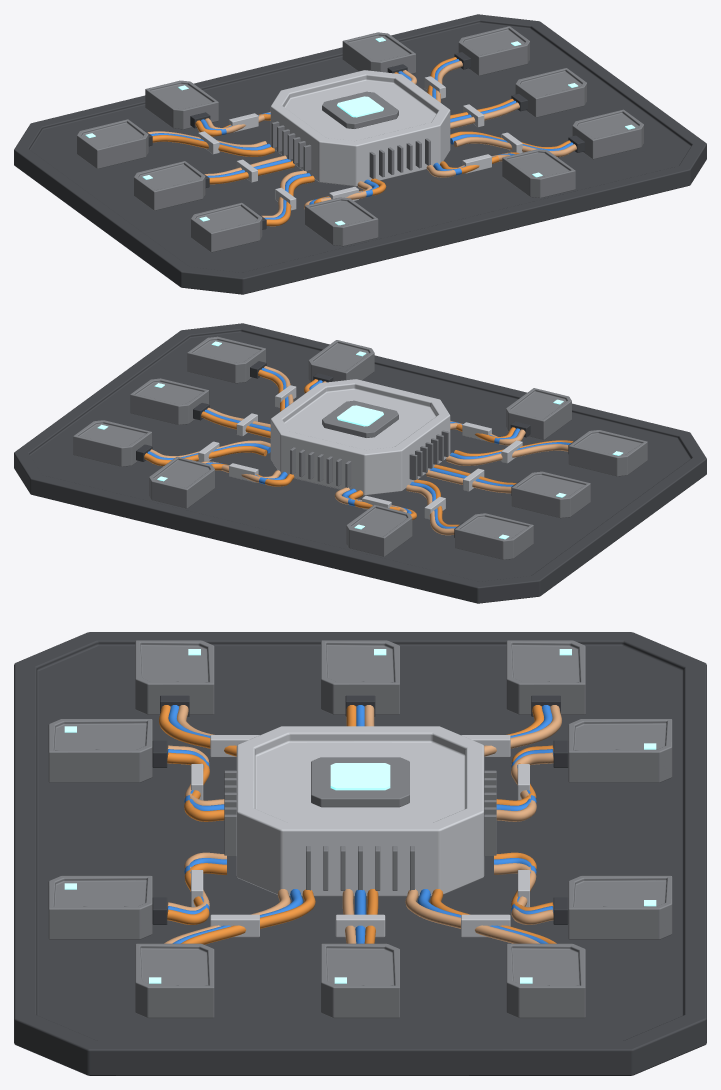
The model's file is placabase_03.glb.
3 renders of one model, top to bottom at view 1: azimuth 30°, elevation 25°; view 2: azimuth 150°, elevation 25°; view 3: azimuth 270°, elevation 25°, orthographic. The views are drawn at different scales.
Parts seen in each view (by area): view 1: Placa_base_glb, Nucleo_base_glb, Modulo_caja.008_glb, Modulo_caja.009_glb, Modulo_caja.002_glb, Modulo_caja.001_glb, Modulo_caja_glb, Modulo_caja.003_glb, Modulo_caja.004_glb, Modulo_caja.005_glb, Modulo_caja.006_glb, Modulo_caja.007_glb (+9 smaller); view 2: Placa_base_glb, Nucleo_base_glb, Modulo_caja_glb, Modulo_caja.001_glb, Modulo_caja.002_glb, Modulo_caja.005_glb, Modulo_caja.004_glb, Modulo_caja.003_glb, Modulo_caja.006_glb, Modulo_caja.007_glb, Modulo_caja.008_glb, Modulo_caja.009_glb (+9 smaller); view 3: Placa_base_glb, Nucleo_base_glb, Modulo_caja.009_glb, Modulo_caja.007_glb, Modulo_caja.006_glb, Modulo_caja.008_glb, Modulo_caja.003_glb, Modulo_caja.005_glb, Modulo_caja.004_glb, Modulo_caja_glb, Modulo_caja.002_glb, Modulo_caja.001_glb (+16 smaller).
Boxes of the visible parts, x1=… form: Placa_base_glb: x1=14, y1=14, x2=706, y2=294; Nucleo_base_glb: x1=270, y1=70, x2=450, y2=186; Modulo_caja.008_glb: x1=305, y1=197, x2=378, y2=246; Modulo_caja.009_glb: x1=502, y1=149, x2=575, y2=197; Modulo_caja.002_glb: x1=77, y1=119, x2=148, y2=168; Modulo_caja.001_glb: x1=134, y1=161, x2=205, y2=210; Modulo_caja_glb: x1=191, y1=202, x2=262, y2=252; Modulo_caja.003_glb: x1=572, y1=109, x2=643, y2=159; Modulo_caja.004_glb: x1=515, y1=68, x2=586, y2=117; Modulo_caja.005_glb: x1=458, y1=26, x2=529, y2=75; Modulo_caja.006_glb: x1=145, y1=80, x2=218, y2=129; Modulo_caja.007_glb: x1=342, y1=32, x2=415, y2=73; Placa_base_glb: x1=14, y1=323, x2=706, y2=603; Nucleo_base_glb: x1=270, y1=379, x2=450, y2=495; Modulo_caja_glb: x1=568, y1=430, x2=647, y2=476; Modulo_caja.001_glb: x1=511, y1=471, x2=590, y2=518; Modulo_caja.002_glb: x1=455, y1=513, x2=533, y2=559; Modulo_caja.005_glb: x1=73, y1=420, x2=152, y2=466; Modulo_caja.004_glb: x1=130, y1=378, x2=209, y2=424; Modulo_caja.003_glb: x1=187, y1=336, x2=265, y2=383; Modulo_caja.006_glb: x1=346, y1=504, x2=412, y2=556; Modulo_caja.007_glb: x1=149, y1=456, x2=214, y2=508; Modulo_caja.008_glb: x1=506, y1=388, x2=571, y2=439; Modulo_caja.009_glb: x1=308, y1=340, x2=374, y2=381; Placa_base_glb: x1=14, y1=632, x2=706, y2=1075; Nucleo_base_glb: x1=236, y1=726, x2=484, y2=896; Modulo_caja.009_glb: x1=48, y1=875, x2=152, y2=939; Modulo_caja.007_glb: x1=568, y1=875, x2=672, y2=939; Modulo_caja.006_glb: x1=568, y1=719, x2=672, y2=782; Modulo_caja.008_glb: x1=48, y1=719, x2=152, y2=782; Modulo_caja.003_glb: x1=135, y1=943, x2=214, y2=1018; Modulo_caja.005_glb: x1=506, y1=943, x2=585, y2=1018; Modulo_caja.004_glb: x1=321, y1=943, x2=399, y2=1018; Modulo_caja_glb: x1=135, y1=640, x2=214, y2=714; Modulo_caja.002_glb: x1=506, y1=640, x2=585, y2=714; Modulo_caja.001_glb: x1=321, y1=640, x2=399, y2=714.
Size of the model in its own units: 4 by 0.41 by 2.8.
